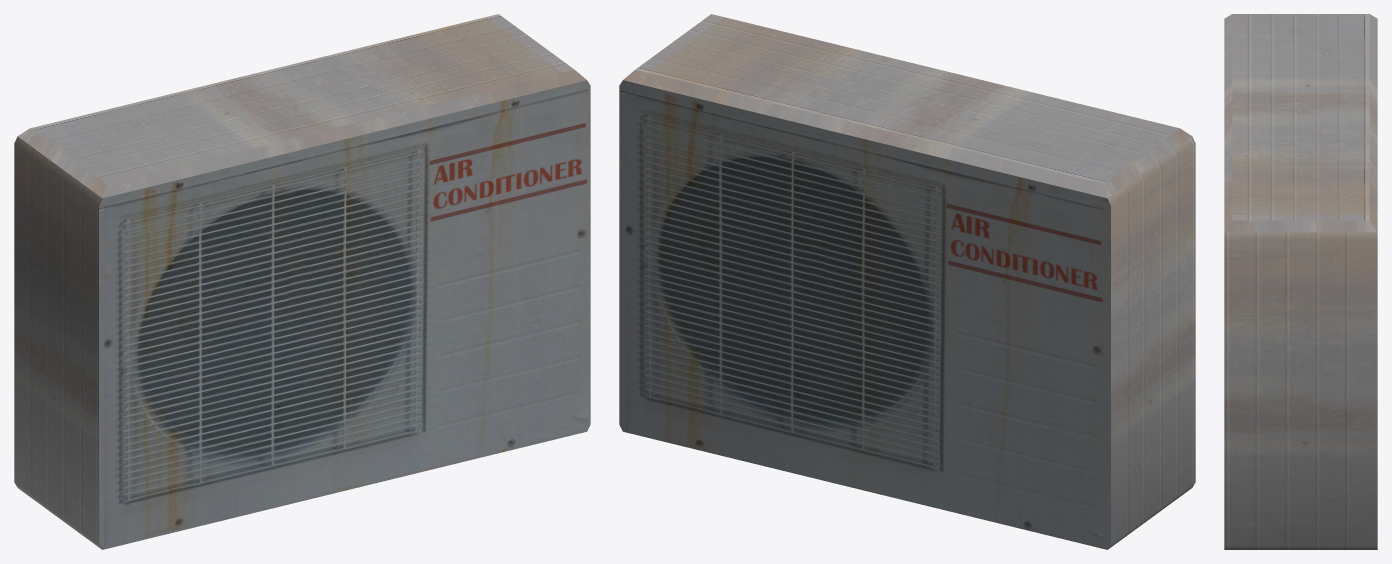
The model's file is AirCon002.fbx.
The picture shows the model from 3 angles, left to right: view 1: azimuth 30°, elevation 25°; view 2: azimuth 150°, elevation 25°; view 3: azimuth 270°, elevation 25°; orthographic projection. The views are drawn at different scales.
Visible parts, largest first — view 1: Air002; view 2: Air002; view 3: Air002.
Boxes of the visible parts, left/top/right/bottom form: Air002: left=14, top=14, right=590, bottom=549; Air002: left=619, top=14, right=1195, bottom=549; Air002: left=1224, top=14, right=1377, bottom=549.
Bounding box in the file's own units: 191 × 135 × 57.
